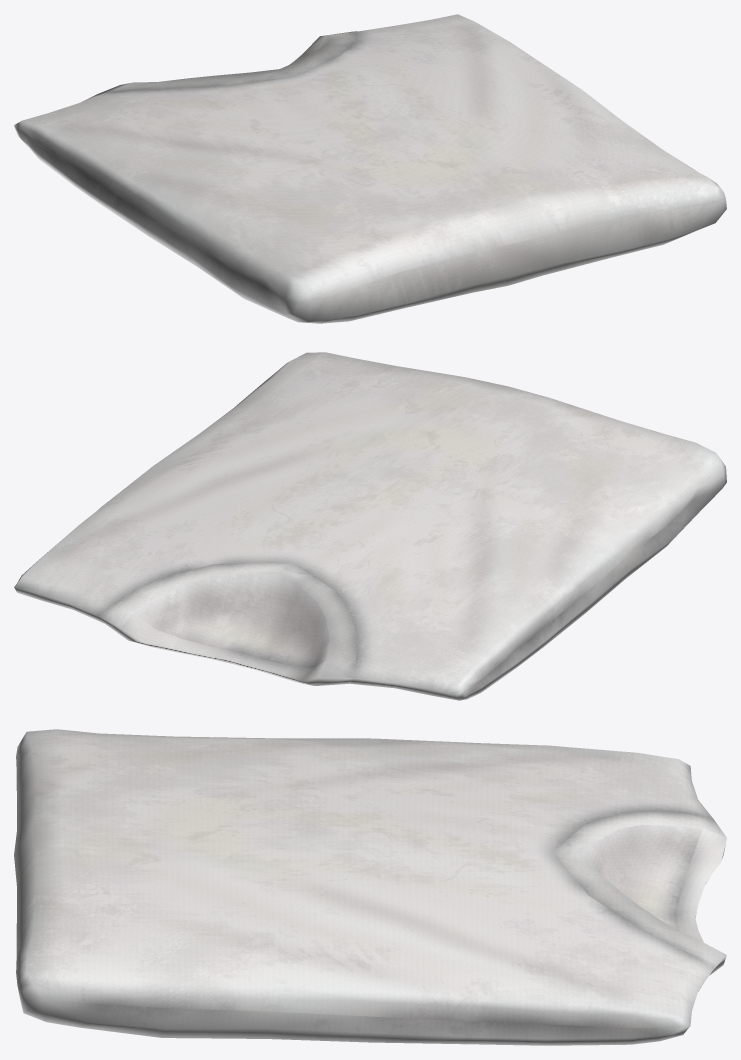
The model's file is cloth_folded_shirt01a.fbx.
3 renders of one model, top to bottom at view 1: azimuth 30°, elevation 25°; view 2: azimuth 150°, elevation 25°; view 3: azimuth 270°, elevation 25°, orthographic. The views are drawn at different scales.
Visible parts, largest first — view 1: cloth_folded_shirt01a; view 2: cloth_folded_shirt01a; view 3: cloth_folded_shirt01a.
Boxes of the visible parts, x1=… form: cloth_folded_shirt01a: x1=14, y1=14, x2=726, y2=323; cloth_folded_shirt01a: x1=14, y1=352, x2=726, y2=700; cloth_folded_shirt01a: x1=14, y1=729, x2=726, y2=1045.
Size of the model in its own units: 28.89 by 5.29 by 33.21.
